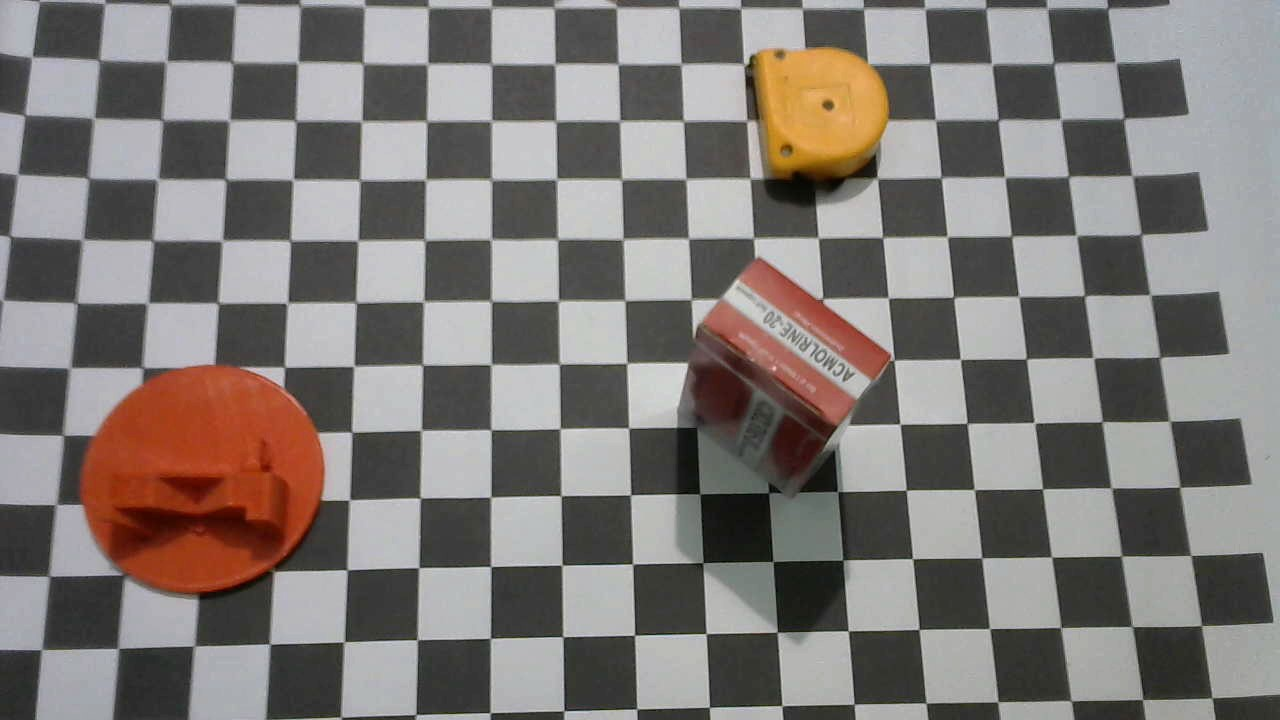blue: (746, 48, 888, 182)
green: (76, 367, 325, 594)
red: (672, 259, 889, 501)
